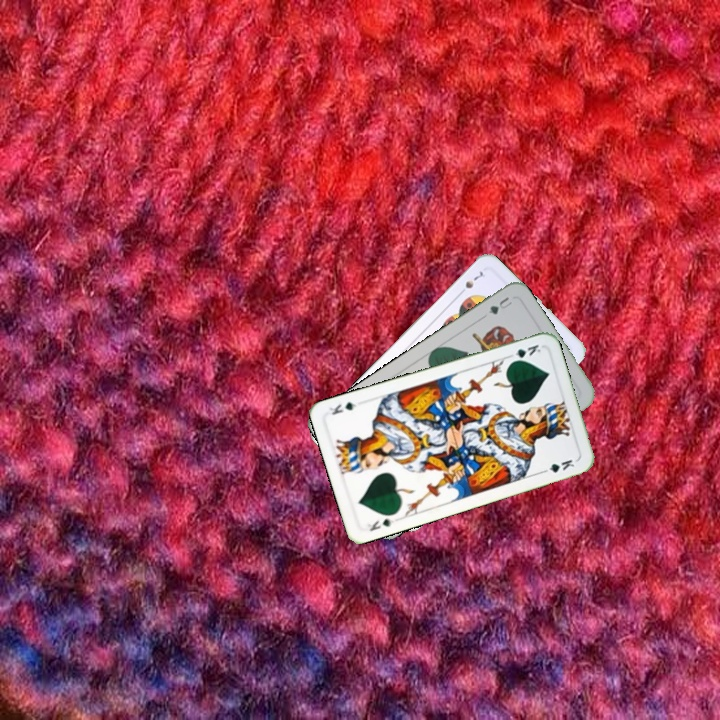GK: (506, 340, 543, 365), (363, 514, 396, 534)
GU: (484, 292, 516, 317)
S7: (455, 267, 486, 298)
